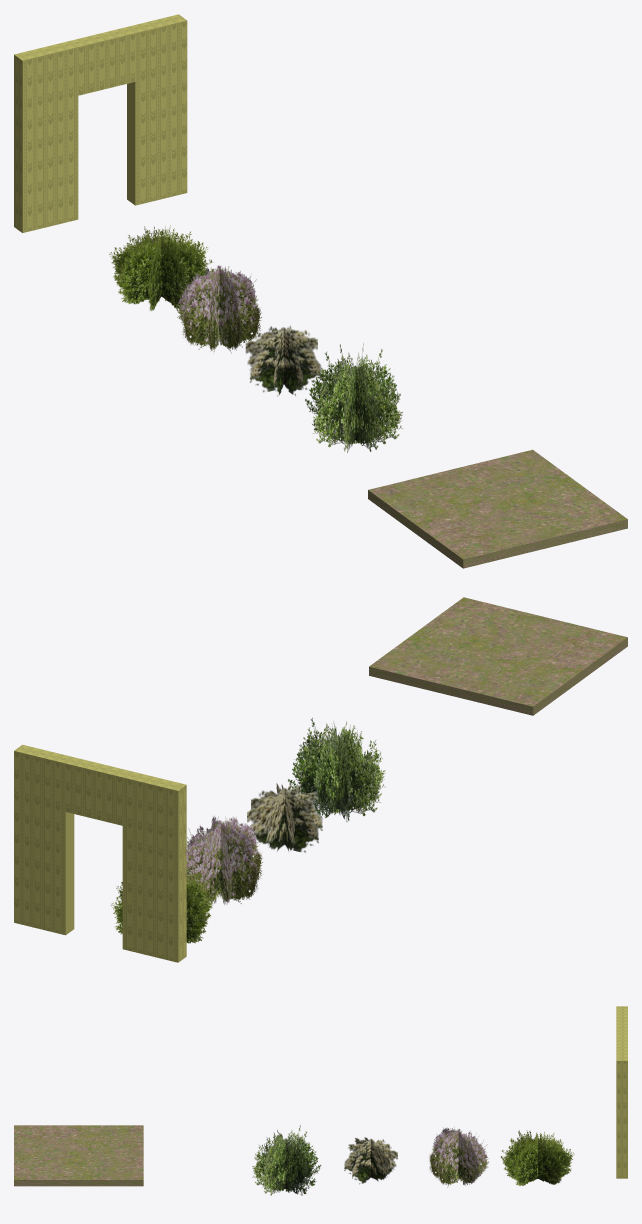
File: missing_GWJ99.glb
3 views of the same model, one above another, from view 1: azimuth 30°, elevation 25°; view 2: azimuth 150°, elevation 25°; view 3: azimuth 270°, elevation 25° (orthographic). The views are drawn at different scales.
Parts seen in each view (by area): view 1: BackRoomsWallDoorway, grassGround, bush04, bush01, bush02, bush03; view 2: BackRoomsWallDoorway, grassGround, bush04, bush02, bush03, bush01; view 3: grassGround, bush04, bush01, bush02, BackRoomsWallDoorway, bush03.
Part boxes in pixels (<box>): BackRoomsWallDoorway: <box>14,14,187,232</box>; grassGround: <box>368,449,627,568</box>; bush04: <box>305,343,403,452</box>; bush01: <box>109,225,213,311</box>; bush02: <box>176,265,261,353</box>; bush03: <box>245,325,321,396</box>; BackRoomsWallDoorway: <box>14,744,186,962</box>; grassGround: <box>369,597,627,715</box>; bush04: <box>288,718,385,821</box>; bush02: <box>186,815,262,904</box>; bush03: <box>247,783,322,852</box>; bush01: <box>111,872,215,943</box>; grassGround: <box>14,1125,143,1186</box>; bush04: <box>252,1125,321,1195</box>; bush01: <box>500,1130,574,1185</box>; bush02: <box>429,1127,488,1187</box>; BackRoomsWallDoorway: <box>616,1006,627,1178</box>; bush03: <box>344,1137,397,1184</box>.
Bounding box in the file's own units: 2.01 × 2.69 × 9.46.
Materials: 6 (6 with a texture image).
